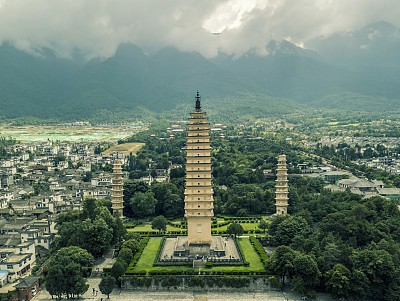ThreePagoda: (183, 90, 214, 244)
